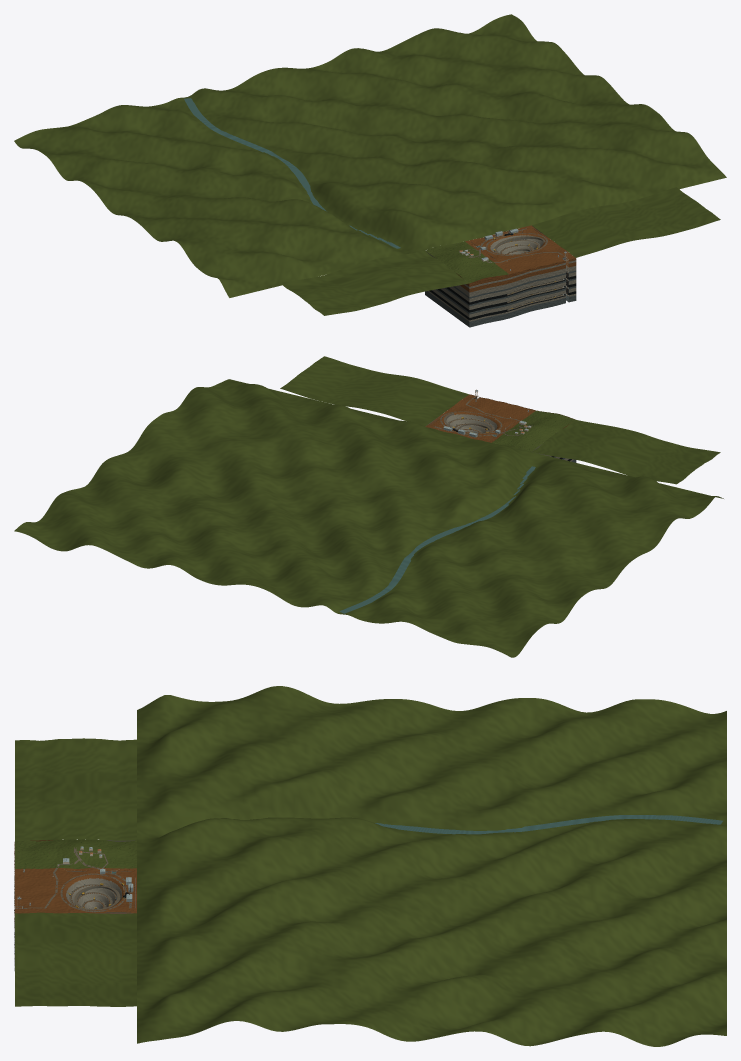
The model's file is mine.glb.
The picture shows the model from 3 angles, top to bottom: view 1: azimuth 30°, elevation 25°; view 2: azimuth 150°, elevation 25°; view 3: azimuth 270°, elevation 25°; orthographic projection. The views are drawn at different scales.
Visible parts, largest first — view 1: Mine_body_0, Mine_body_2, Mine_body_1, Mine_body_16, Mine_body_14, Mine_body_8, Mine_body_10, Surface_terrain_1; view 2: Mine_body_0, Mine_body_1, Mine_body_8, Mine_body_2, Surface_terrain_1, Mine_body_10; view 3: Mine_body_0, Mine_body_1, Mine_body_8, Mine_body_2, Mine_body_10, Surface_terrain_1.
Boxes of the visible parts, x1,y1,x2,y2 form: Mine_body_0: [14, 14, 726, 315]; Mine_body_2: [426, 226, 576, 321]; Mine_body_1: [456, 225, 576, 292]; Mine_body_16: [425, 239, 576, 327]; Mine_body_14: [429, 233, 576, 320]; Mine_body_8: [184, 98, 479, 248]; Mine_body_10: [463, 228, 566, 310]; Surface_terrain_1: [498, 252, 554, 273]; Mine_body_0: [14, 356, 723, 657]; Mine_body_1: [425, 394, 575, 442]; Mine_body_8: [339, 435, 535, 613]; Mine_body_2: [426, 398, 573, 461]; Surface_terrain_1: [475, 399, 532, 419]; Mine_body_10: [434, 398, 532, 436]; Mine_body_0: [15, 686, 726, 1046]; Mine_body_1: [14, 840, 136, 922]; Mine_body_8: [112, 815, 722, 873]; Mine_body_2: [14, 840, 134, 963]; Mine_body_10: [23, 847, 132, 912]; Surface_terrain_1: [15, 870, 55, 899].
Size of the model in its own units: 1680 by 210 by 1522.
